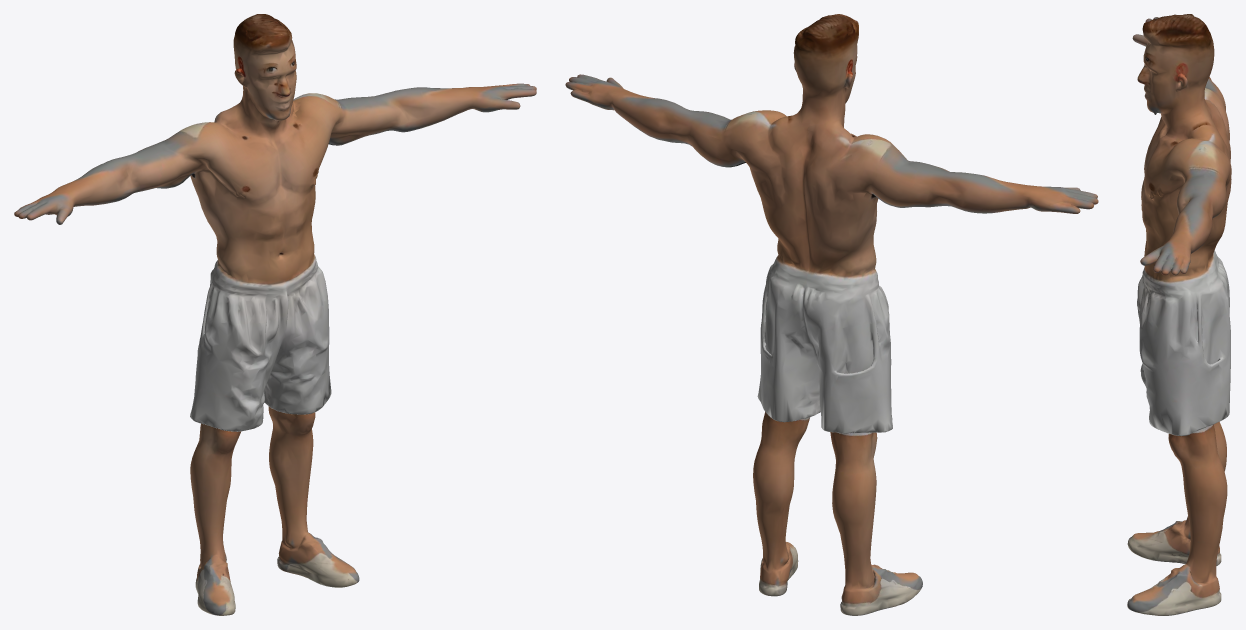
File: rise.glb
The picture shows the model from 3 angles, left to right: view 1: azimuth 30°, elevation 25°; view 2: azimuth 150°, elevation 25°; view 3: azimuth 270°, elevation 25°; orthographic projection.
Visible parts, largest first — view 1: tripo_node_7ca279aa-be7f-48ac-972d-5607060e45d0; view 2: tripo_node_7ca279aa-be7f-48ac-972d-5607060e45d0; view 3: tripo_node_7ca279aa-be7f-48ac-972d-5607060e45d0.
Part boxes in pixels (x1,y1,x2,y2): tripo_node_7ca279aa-be7f-48ac-972d-5607060e45d0: (14,14,536,615); tripo_node_7ca279aa-be7f-48ac-972d-5607060e45d0: (565,14,1098,615); tripo_node_7ca279aa-be7f-48ac-972d-5607060e45d0: (1127,14,1231,615).
Size of the model in its own units: 0.9607 by 0.9998 by 0.1673.
1 material, 1 textured.
